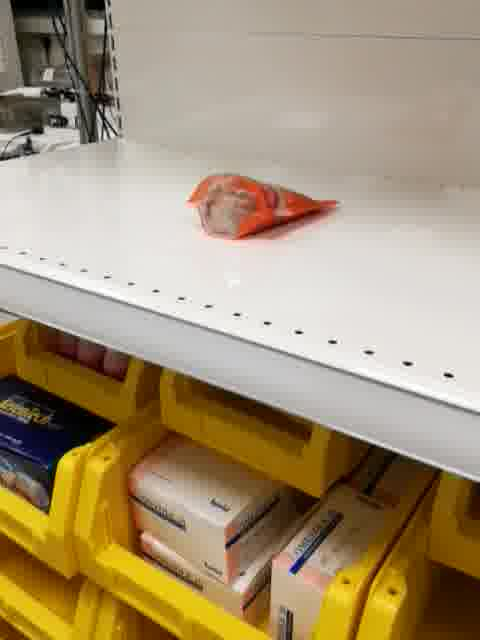whitechia: (186, 172, 342, 241)
